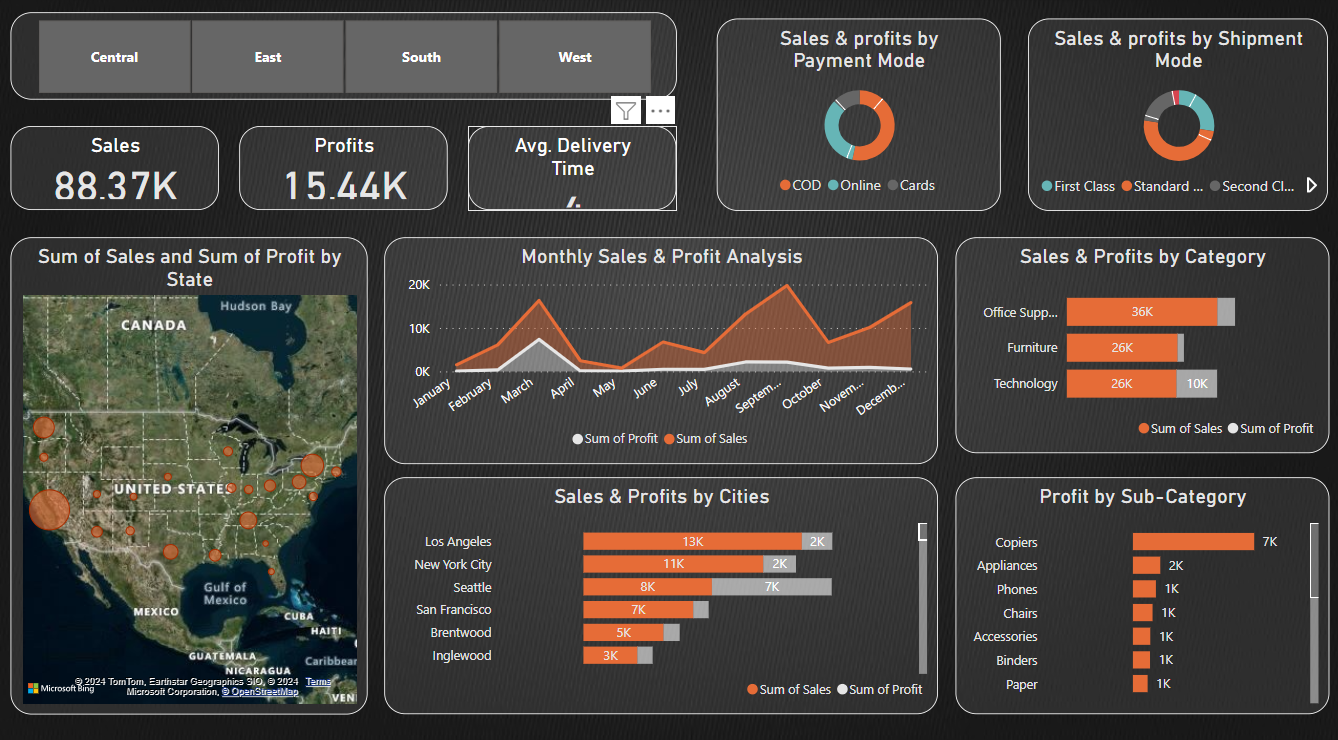

The dashboard page shown, as its layout file describes it:
{"tool":"powerbi","page":{"name":"Page 1","canvas":[1280,720],"ordinal":0},"visuals":[{"type":"barChart","title":"Sales & Profits by Category","fields":{"Category":["Sheet1.Category"],"Y":["Sum(Sheet1.Sales)","Sum(Sheet1.Profit)"]},"box":[911.4,230,355.7,205.7],"z":0},{"type":"barChart","title":"Profit by Sub-Category","fields":{"Y":["Sum(Sheet1.Profit)"],"Category":["Sheet1.Sub-Category"]},"box":[911.4,458.6,355.7,225.7],"z":1000},{"type":"barChart","title":"Sales & Profits by Cities","fields":{"Y":["Sum(Sheet1.Sales)","Sum(Sheet1.Profit)"],"Category":["Sheet1.City"]},"box":[367.1,458.6,527.1,225.7],"z":2000},{"type":"donutChart","title":"Sales & profits by Payment Mode","fields":{"Category":["Sheet1.Payment Mode"],"Y":["Sum(Sheet1.Profit)","Sum(Sheet1.Sales)"]},"box":[684.3,21.4,270,182.9],"z":3000},{"type":"donutChart","title":"Sales & profits by Shipment Mode","fields":{"Y":["Sum(Sheet1.Profit)","Sum(Sheet1.Sales)"],"Category":["Sheet1.Ship Mode"]},"box":[981.1,21.1,285.6,183.3],"z":4000},{"type":"stackedAreaChart","title":"Monthly Sales & Profit Analysis","fields":{"Y":["Sum(Sheet1.Profit)","Sum(Sheet1.Sales)"],"Category":["Sheet1.Order Date.Variation.Date Hierarchy.Month"]},"box":[367.1,230,527.1,215.7],"z":5000},{"type":"slicer","title":"Regions","fields":{"Values":["Sheet1.Region"]},"box":[11.4,15.7,634.3,82.9],"z":6000},{"type":"card","title":"Sales","fields":{"Values":["Sum(Sheet1.Sales)"]},"box":[11.4,124.3,198.6,80],"z":8000},{"type":"card","title":"Profits","fields":{"Values":["Sum(Sheet1.Profit)"]},"box":[230,124.3,198.6,80],"z":9000},{"type":"card","title":"Avg. Delivery Time","fields":{"Values":["Avg(Sheet1.DeliveryTime)"]},"box":[447.1,124.3,198.6,80],"z":10000},{"type":"map","fields":{"Category":["Sheet1.State"],"Size":["Sum(Sheet1.Sales)"]},"box":[11.4,230,340,454.3],"z":10001}]}

Visuals, with their boxes in screenshot pixels (x1, y1, x2, y2), scaled from the page's 1280x720 canvas onto the 1338x740 screenshot:
"Sales & Profits by Category" barChart: left=953, top=236, right=1325, bottom=448
"Profit by Sub-Category" barChart: left=953, top=471, right=1325, bottom=703
"Sales & Profits by Cities" barChart: left=384, top=471, right=935, bottom=703
"Sales & profits by Payment Mode" donutChart: left=715, top=22, right=998, bottom=210
"Sales & profits by Shipment Mode" donutChart: left=1026, top=22, right=1324, bottom=210
"Monthly Sales & Profit Analysis" stackedAreaChart: left=384, top=236, right=935, bottom=458
"Regions" slicer: left=12, top=16, right=675, bottom=101
"Sales" card: left=12, top=128, right=220, bottom=210
"Profits" card: left=240, top=128, right=448, bottom=210
"Avg. Delivery Time" card: left=467, top=128, right=675, bottom=210
map - Sheet1.State x Sum(Sheet1.Sales): left=12, top=236, right=367, bottom=703
